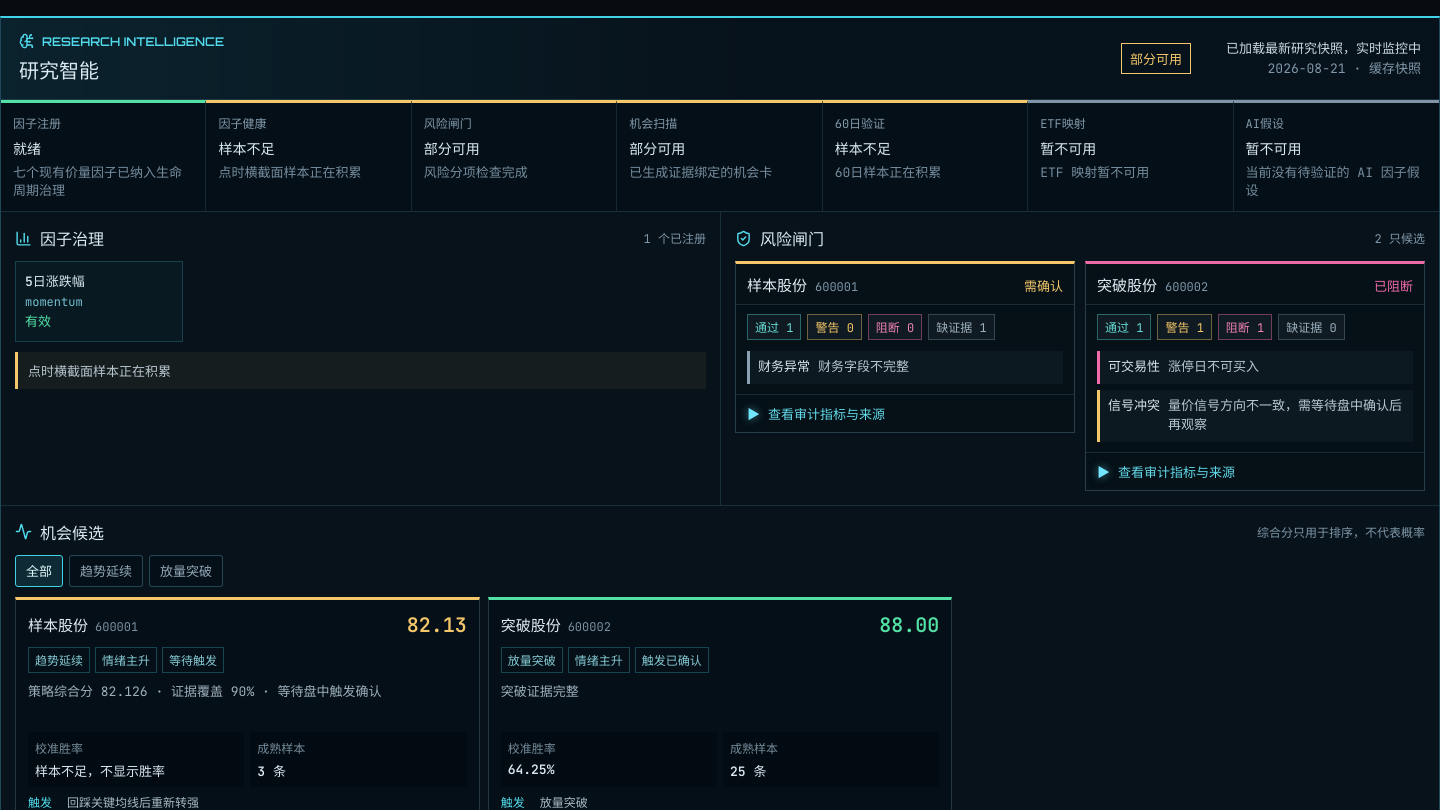
Test case: QuantResearchIntelligencePanel › prioritizes blockers and warnings while keeping audit values in details
Check: the heading "研究智能" is shown, box [19,58,99,83]
Check: the element with test id "quant-risk-card-600002" does not show "量价信号方向不一致，需等待盘中确认后再观…", box [1085,261,1425,491]
Click the heading "查看审计指标与来源" below "信号冲突".
click(1176, 472)  # box [1118,464,1235,481]
(page scrolled)
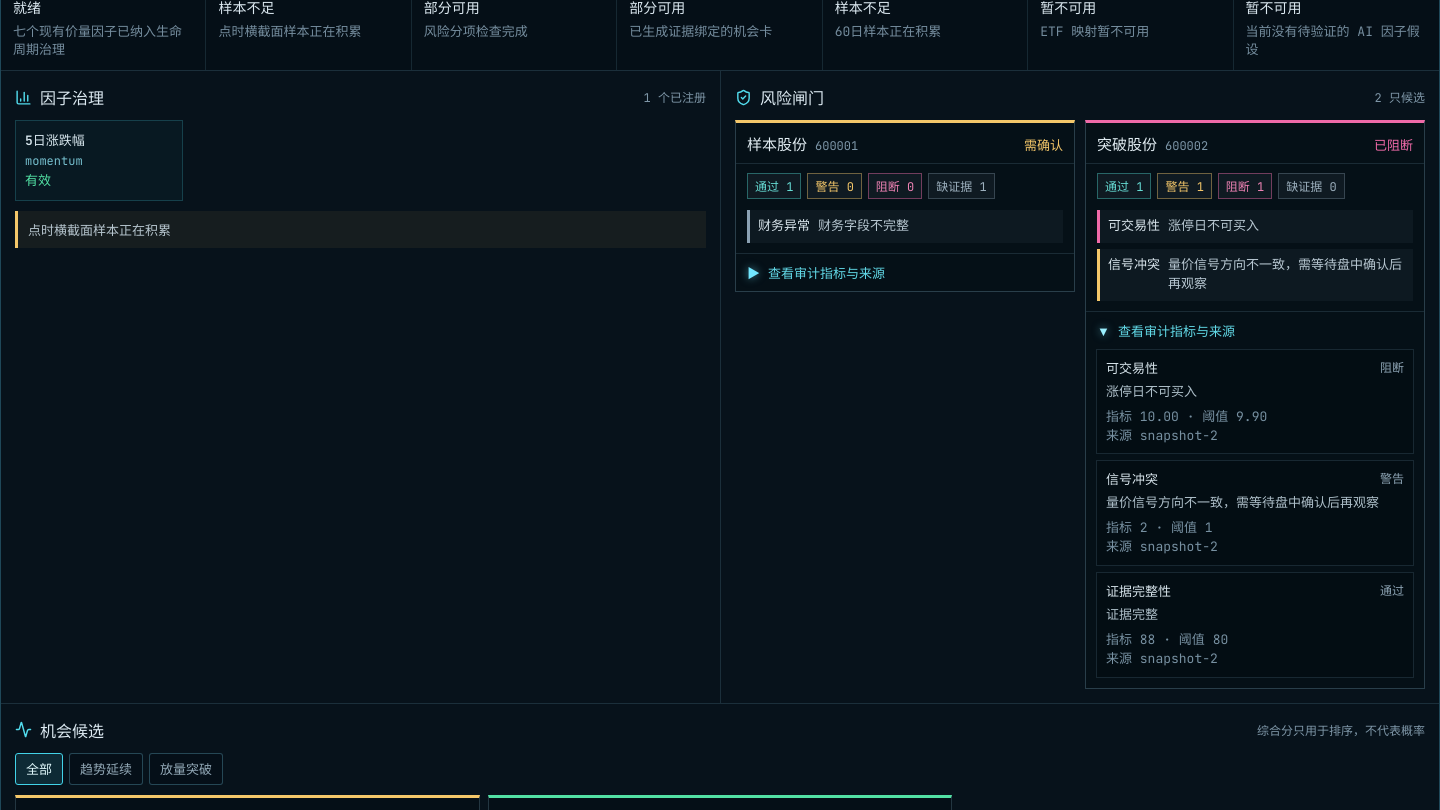
Check: the element with test id "quant-risk-card-600002" shows "指标 10.00", box [1085,120,1425,688]
Check: the element with test id "quant-risk-card-600002" shows "阈值 9.90", box [1085,120,1425,688]
Check: the element with test id "quant-risk-card-600002" shows "snapshot-2", box [1140,427,1218,444]
